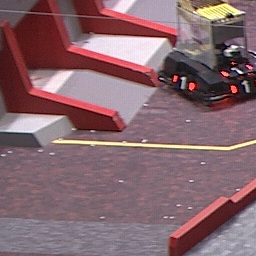Red: (220, 64, 255, 78), (173, 73, 195, 94), (230, 81, 256, 96)
Robot: (157, 1, 256, 109)
